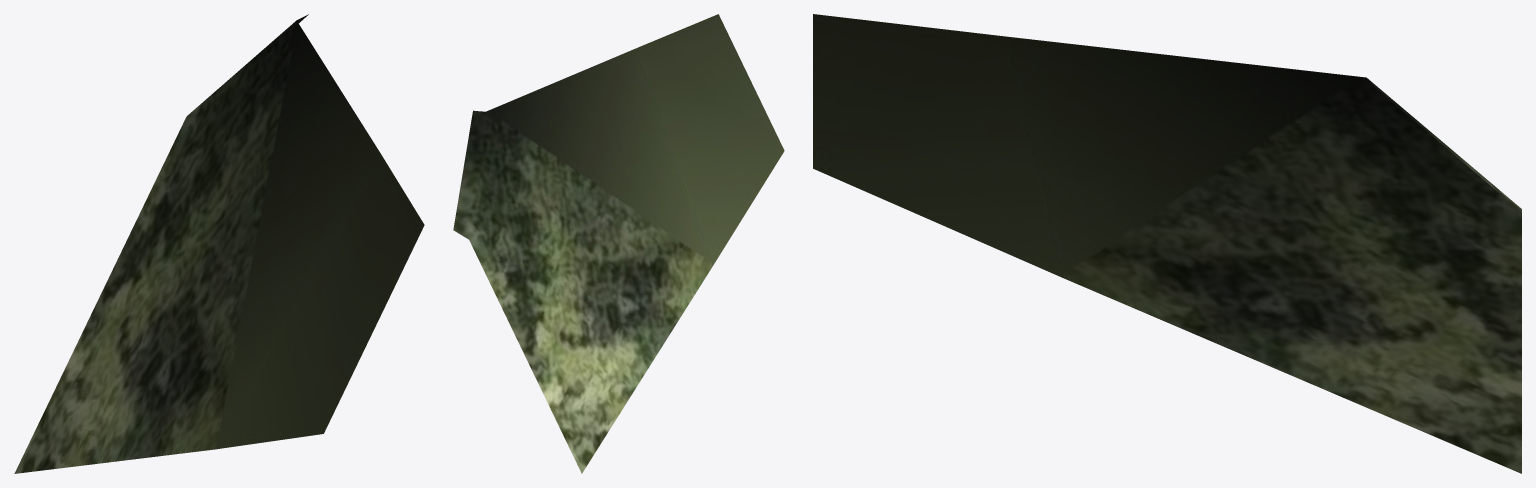
3 views of the same model, side by side, from view 1: azimuth 30°, elevation 25°; view 2: azimuth 150°, elevation 25°; view 3: azimuth 270°, elevation 25° (orthographic). The views are drawn at different scales.
Bounding box in the file's own units: 1.27 × 2.37 × 2.95.
2 materials, 2 textured.
